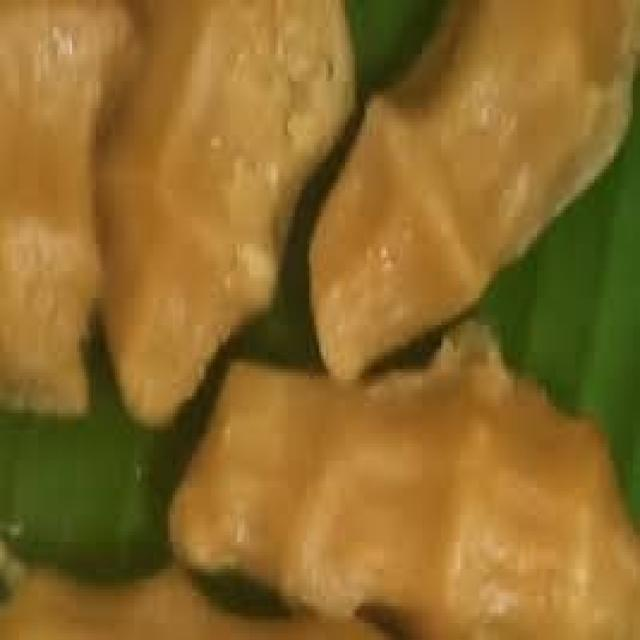pidi kolukattai: (1, 0, 640, 640)
